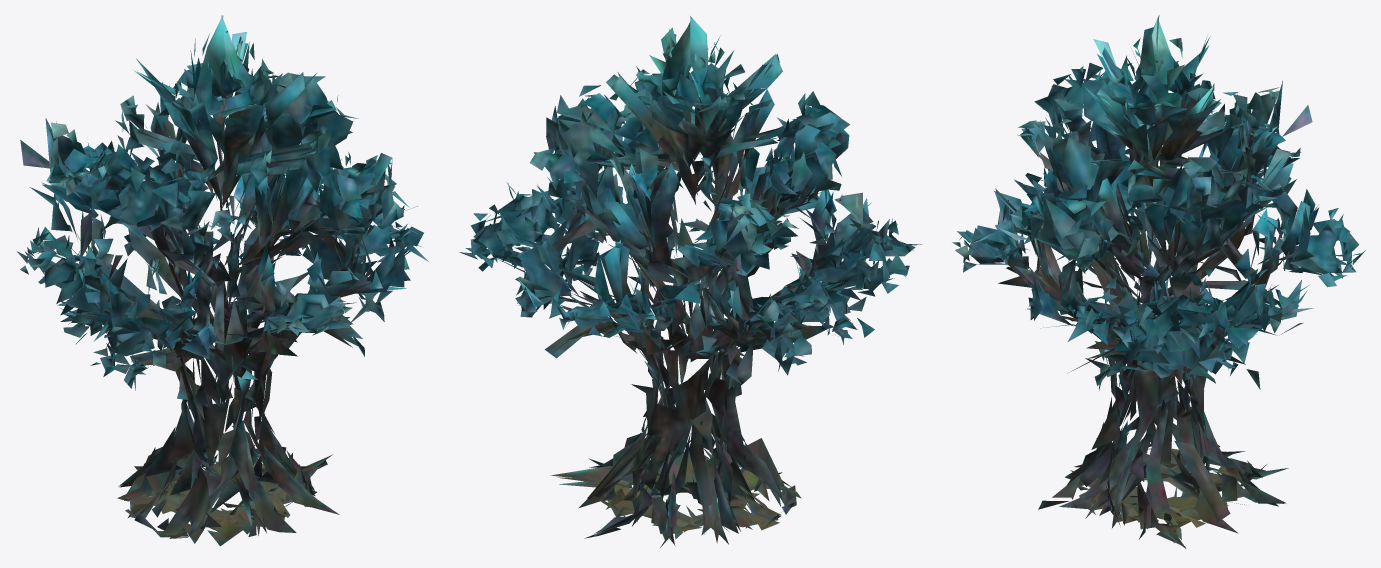
File: arvore_cristal_mana_jovem.glb
3 renders of one model, left to right at view 1: azimuth 30°, elevation 25°; view 2: azimuth 150°, elevation 25°; view 3: azimuth 270°, elevation 25°, orthographic.
Visible parts, largest first — view 1: geometry_0; view 2: geometry_0; view 3: geometry_0.
Part boxes in pixels (x1,y1,x2,y2): geometry_0: (17,15,428,546); geometry_0: (459,16,921,547); geometry_0: (952,15,1365,548).
Bounding box in the file's own units: 0.8465 × 1.02 × 0.7798.
Materials: 1 (1 with a texture image).
